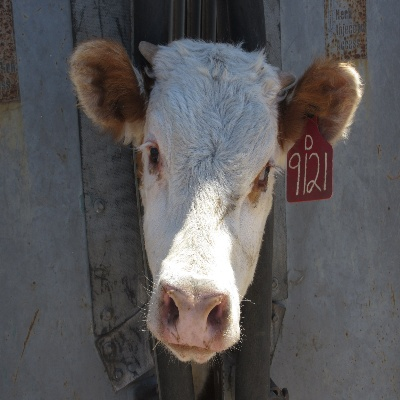fidget_spinner: (158, 277, 228, 349)
